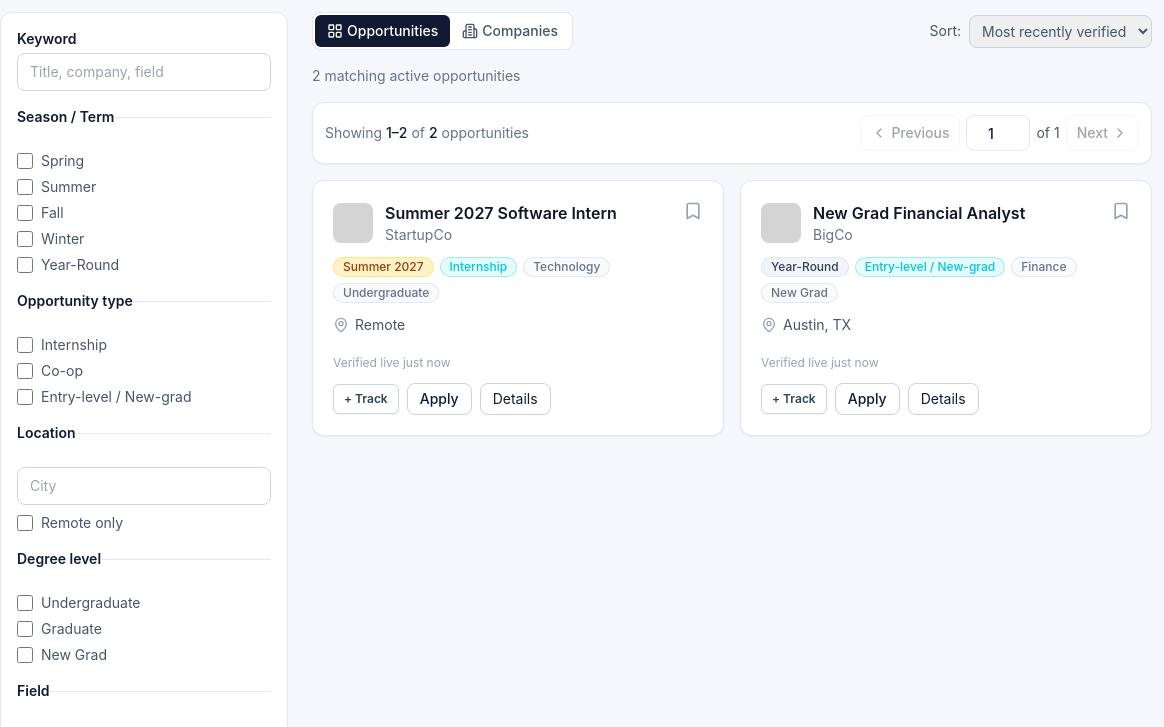
Browse page › switches to the companies view
Expected: the link "Summer 2027 Software Intern" is shown, left=385, top=201, right=617, bottom=225
Click the tab "Companies" at (510, 31), box left=450, top=15, right=570, bottom=47
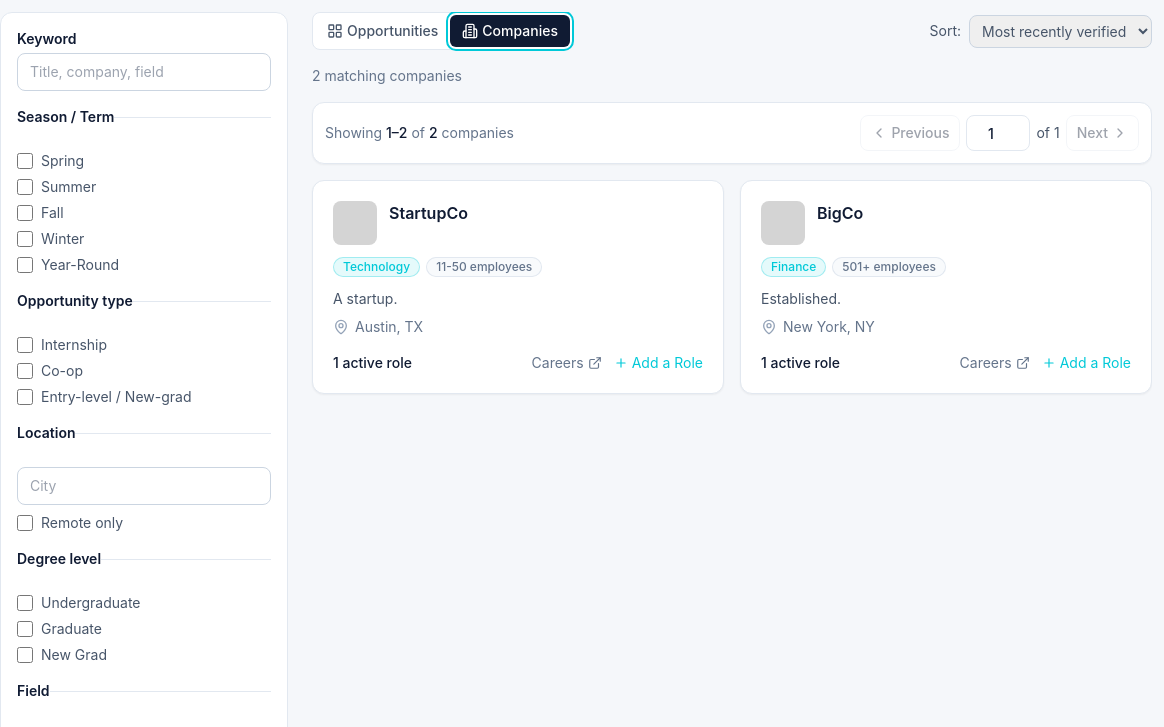
Expected: the link "StartupCo" is shown, left=389, top=203, right=468, bottom=223
Expected: the text "2 matching companies" is shown, left=312, top=67, right=462, bottom=84
